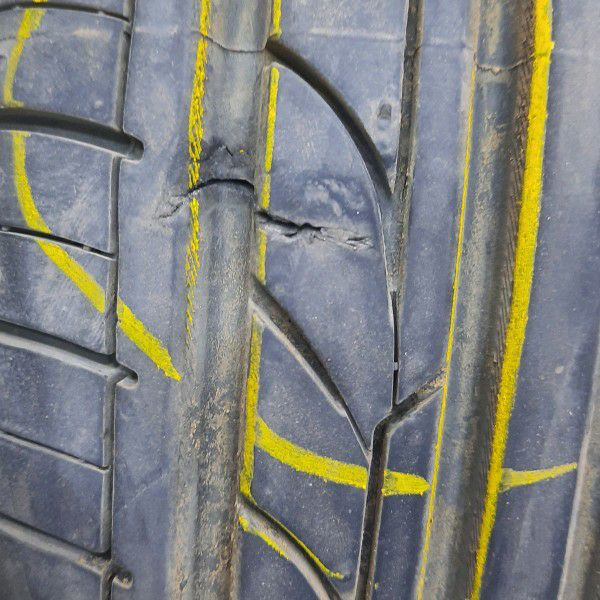tr: (155, 167, 380, 257)
